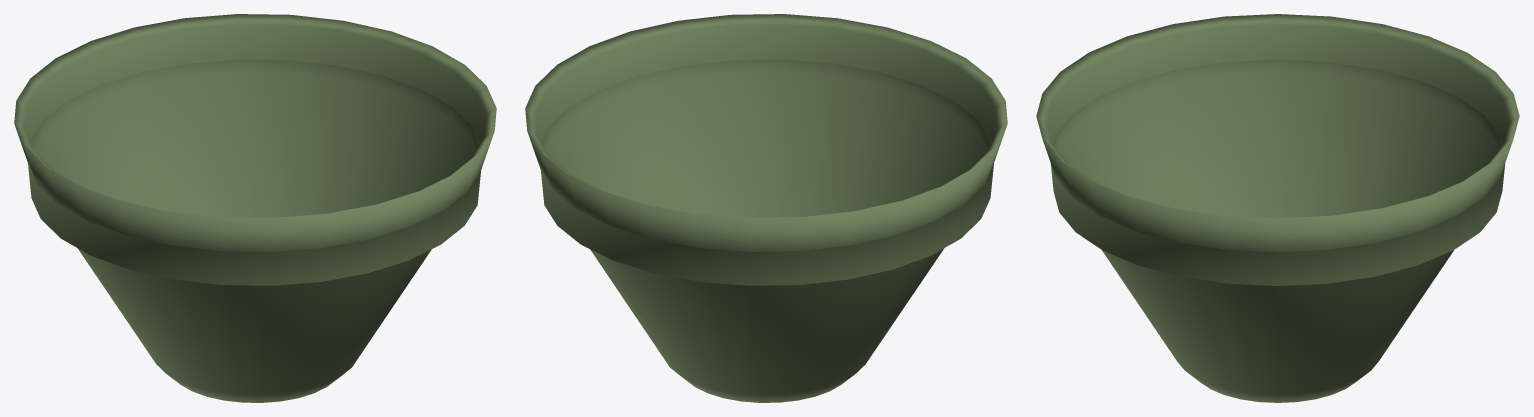
File: i_vase_9_0.glb
3 renders of one model, left to right at view 1: azimuth 30°, elevation 25°; view 2: azimuth 150°, elevation 25°; view 3: azimuth 270°, elevation 25°, orthographic.
Parts seen in each view (by area): view 1: o; view 2: o; view 3: o.
Part boxes in pixels (x1=…): o: x1=14, y1=14, x2=496, y2=402; o: x1=525, y1=14, x2=1007, y2=402; o: x1=1036, y1=14, x2=1519, y2=402.
Bounding box in the file's own units: 0.28 × 0.16 × 0.28.
